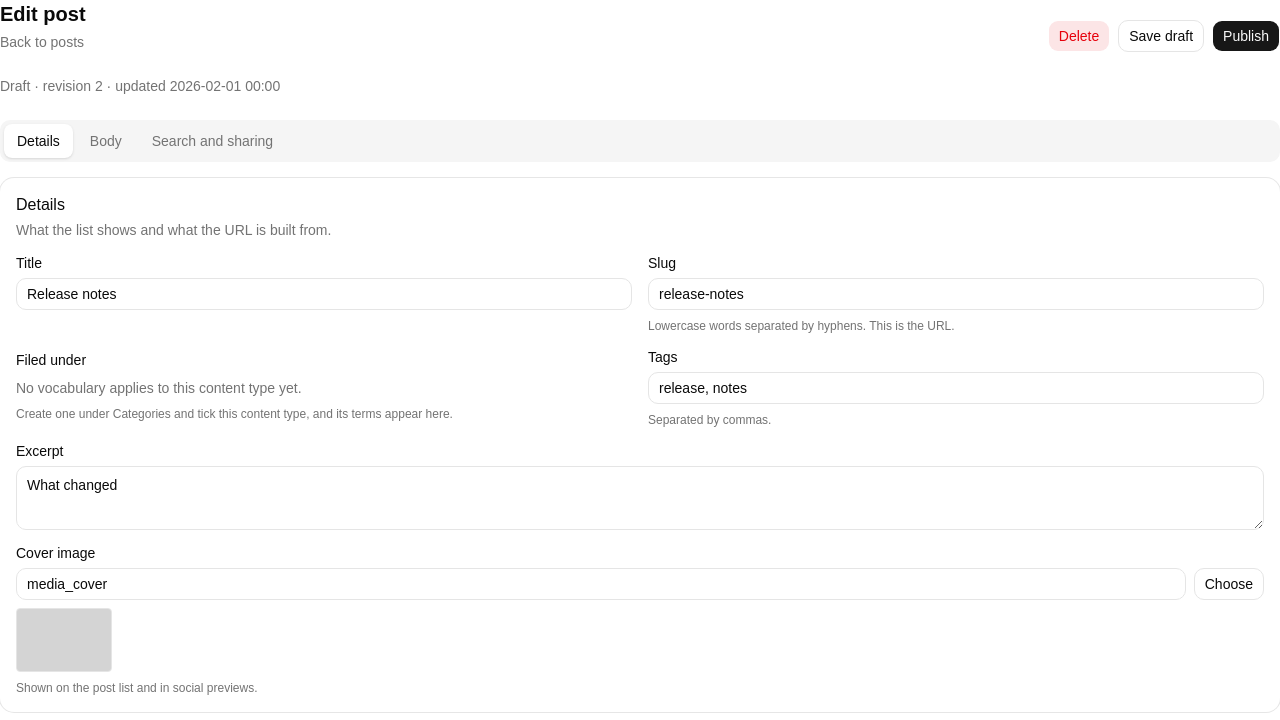
the cover image › can be chosen from the media library
Expected: the field labelled "Cover image" is shown, top-left (16, 568), bottom-right (1186, 600)
Click the button with aria-label "Choose cover image": (1229, 584) top-left (1194, 568), bottom-right (1264, 600)
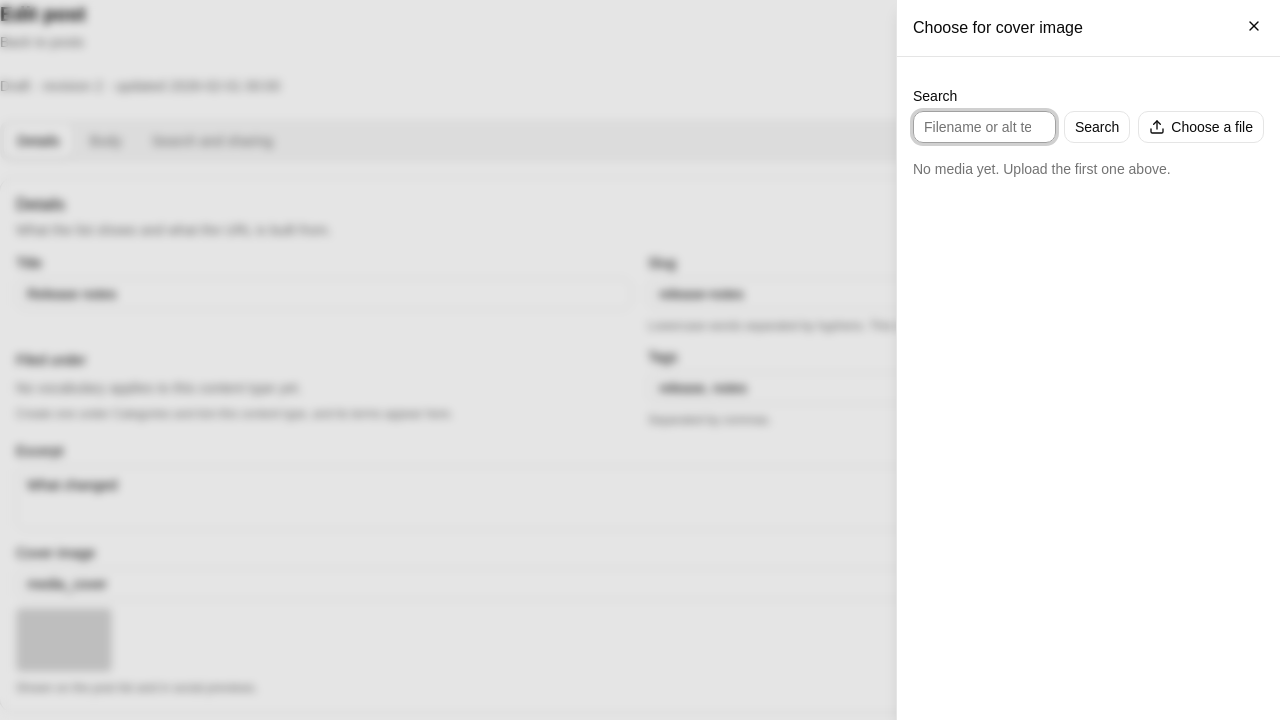
Now the heading "Choose for cover image" is shown, box top-left (913, 19), bottom-right (1083, 36)
